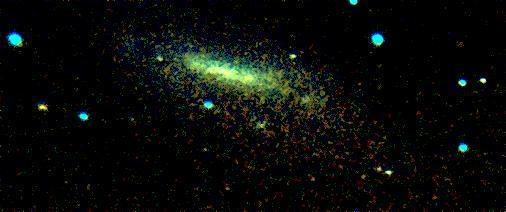star: (147, 41, 177, 71)
